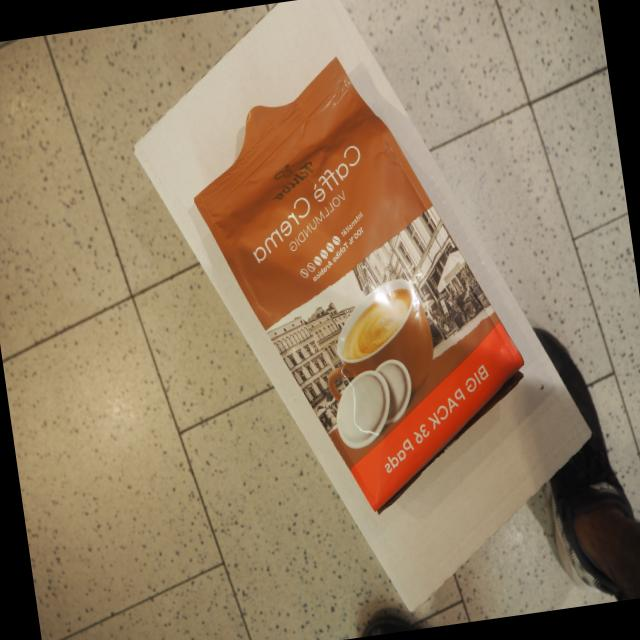CC Vollmundig: (172, 35, 537, 528)
